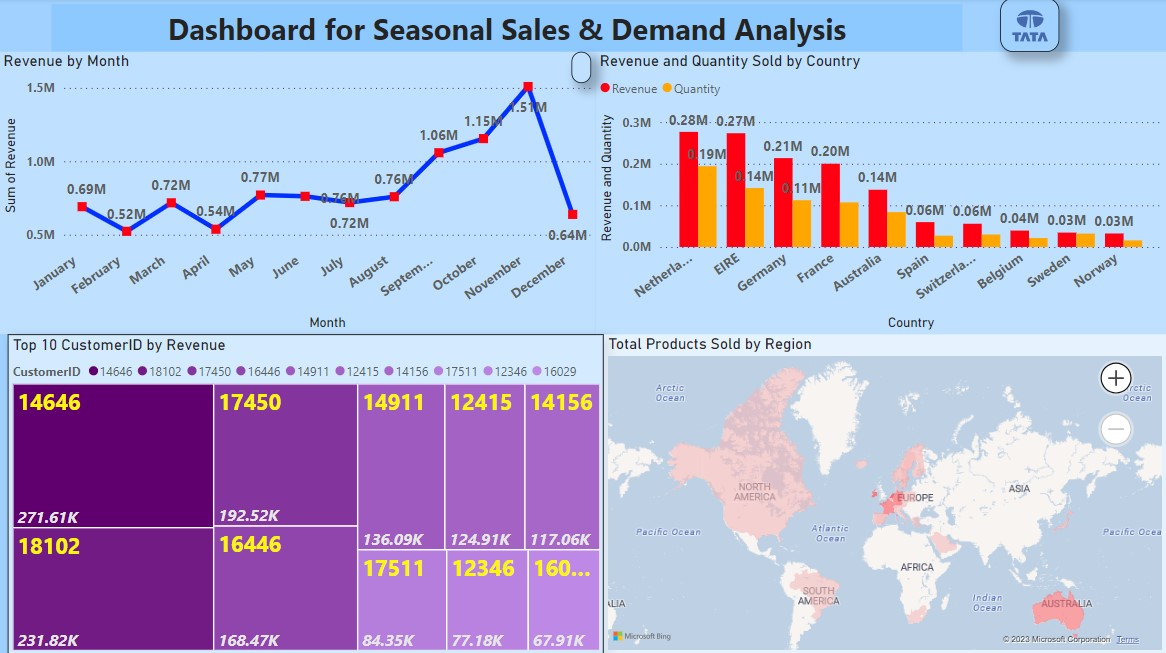

The dashboard page shown, as its layout file describes it:
{"tool":"powerbi","page":{"name":"Intergrated","canvas":[1280,720],"ordinal":5},"visuals":[{"type":"lineChart","title":"Revenue by Month","fields":{"Category":["Online Retail.Date.Variation.Date Hierarchy.Month"],"Y":["Sum(Online Retail.Revenue)"]},"box":[0,59,654,309.9],"z":0},{"type":"clusteredColumnChart","title":"Revenue and Quantity Sold by Country","fields":{"Y":["Sum(Online Retail.Revenue)","Sum(Online Retail.Quantity)"],"Category":["Online Retail.Country"]},"box":[654,59,626.6,309.9],"z":1000},{"type":"treemap","title":"Top 10  CustomerID by Revenue","fields":{"Values":["Sum(Online Retail.Revenue)"],"Group":["Online Retail.CustomerID"]},"box":[9.6,368.8,654,351],"z":2000},{"type":"map","fields":{"Category":["Online Retail.Country"],"Size":["Sum(Online Retail.Quantity)"]},"box":[663.6,368.8,617,351],"z":3000},{"type":"textbox","box":[57.6,6.9,999.5,52.1],"z":4000},{"type":"image","box":[1098.2,0,64.4,59],"z":5000},{"type":"slicer","fields":{"Values":["Online Retail.Date.Variation.Date Hierarchy.Year"]},"box":[627.9,59,12.3,34.3],"z":6000}]}

Visuals, with their boxes in screenshot pixels (x1, y1, x2, y2), scaled from the page's 1280x720 canvas onto the 1166x653 screenshot:
"Revenue by Month" lineChart: l=0, t=54, r=596, b=335
"Revenue and Quantity Sold by Country" clusteredColumnChart: l=596, t=54, r=1165, b=335
"Top 10  CustomerID by Revenue" treemap: l=9, t=334, r=604, b=652
map - Online Retail.Country x Sum(Online Retail.Quantity): l=604, t=334, r=1165, b=652
textbox: l=52, t=6, r=963, b=54
image: l=1000, t=0, r=1059, b=54
slicer - Online Retail.Date.Variation.Date Hierarchy.Year: l=572, t=54, r=583, b=85
